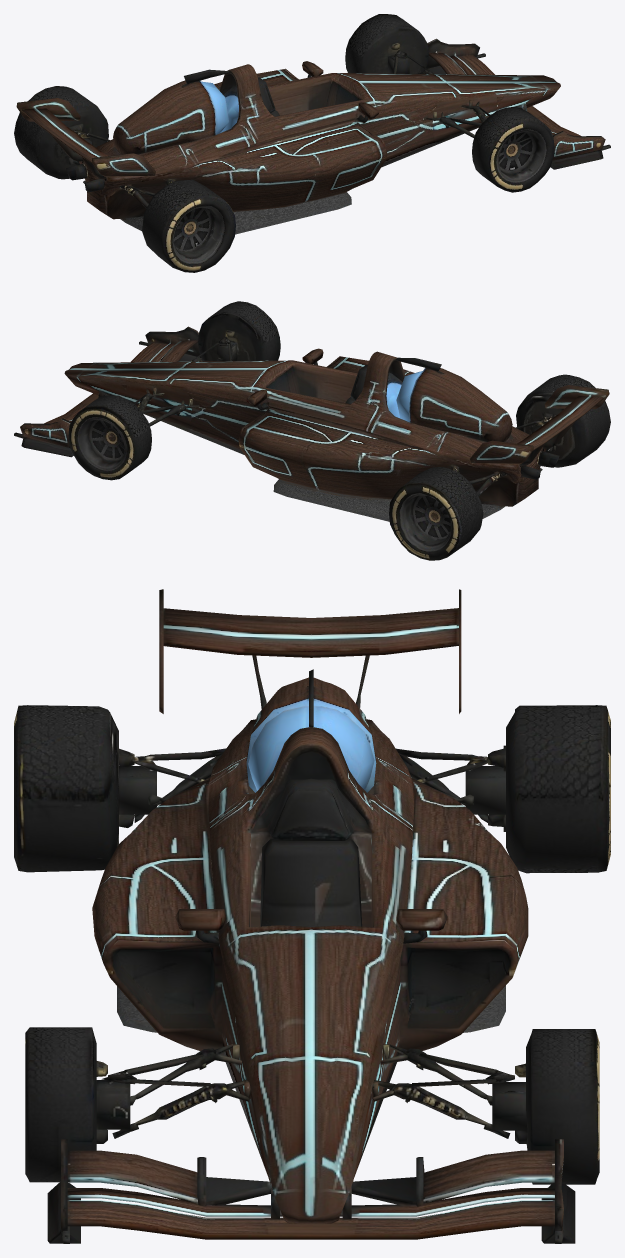
The model's file is tripo_convert_3ae5f651-78c4-4c37-949c-b3ccc0d32cb0.fbx.
3 views of the same model, one above another, from view 1: azimuth 30°, elevation 25°; view 2: azimuth 150°, elevation 25°; view 3: azimuth 270°, elevation 25° (orthographic). The views are drawn at different scales.
Visible parts, largest first — view 1: tripo_node_3ae5f651; view 2: tripo_node_3ae5f651; view 3: tripo_node_3ae5f651.
Part boxes in pixels (x1,y1,x2,y2): tripo_node_3ae5f651: [14, 14, 610, 272]; tripo_node_3ae5f651: [14, 301, 610, 560]; tripo_node_3ae5f651: [14, 589, 610, 1243].
Size of the model in its own units: 0.998 by 0.2441 by 0.5215.
1 material, 1 textured.
